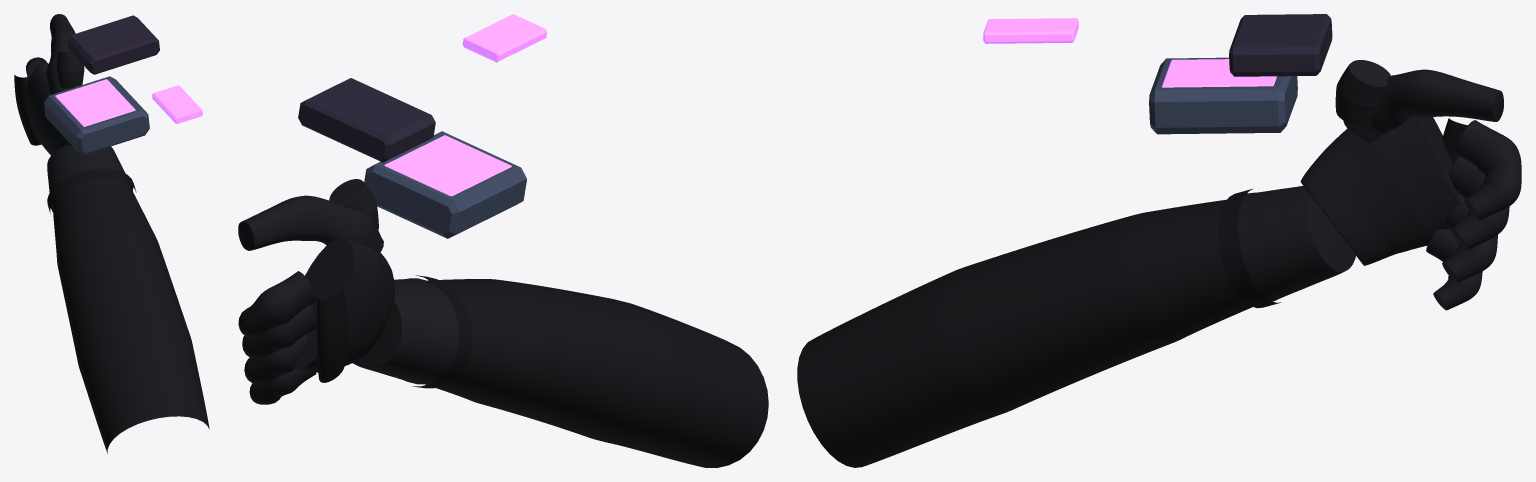
File: hands_specter_magin.glb
3 views of the same model, side by side, from view 1: azimuth 30°, elevation 25°; view 2: azimuth 150°, elevation 25°; view 3: azimuth 270°, elevation 25° (orthographic). The views are drawn at different scales.
Parts seen in each view (by area): view 1: hand_l_forearm, hand_l_cuff_plate, hand_l_scanner, hand_l_screen, hand_l_palm, hand_l_cuff, hand_l_thumb, hand_l_lamp, hand_l_cuff_strap, hand_l_web, hand_l_knuckle_panel, hand_l_index; view 2: hand_l_forearm, hand_l_cuff, hand_l_scanner, hand_l_palm, hand_l_cuff_plate, hand_l_thumb, hand_l_screen, hand_l_index, hand_l_knuckle_panel, hand_l_lamp, hand_l_middle, hand_l_cuff_strap (+3 smaller); view 3: hand_l_forearm, hand_l_palm, hand_l_cuff, hand_l_scanner, hand_l_cuff_plate, hand_l_thumb, hand_l_index, hand_l_web, hand_l_cuff_strap, hand_l_middle, hand_l_lamp, hand_l_screen (+2 smaller).
Part boxes in pixels (x1,y1,x2,y2): hand_l_forearm: (52, 179, 209, 453); hand_l_cuff_plate: (67, 15, 159, 74); hand_l_scanner: (44, 76, 149, 154); hand_l_screen: (55, 79, 135, 126); hand_l_palm: (24, 63, 72, 155); hand_l_cuff: (47, 145, 132, 211); hand_l_thumb: (46, 14, 75, 94); hand_l_lamp: (152, 85, 202, 123); hand_l_cuff_strap: (47, 168, 136, 214); hand_l_web: (56, 52, 84, 88); hand_l_knuckle_panel: (14, 75, 41, 145); hand_l_index: (26, 57, 47, 78); hand_l_forearm: (425, 279, 768, 467); hand_l_cuff: (352, 278, 458, 384); hand_l_scanner: (364, 131, 526, 238); hand_l_palm: (292, 238, 394, 372); hand_l_cuff_plate: (298, 78, 435, 162); hand_l_thumb: (238, 195, 383, 254); hand_l_screen: (384, 135, 511, 196); hand_l_index: (238, 271, 316, 337); hand_l_knuckle_panel: (316, 285, 347, 382); hand_l_lamp: (462, 14, 547, 62); hand_l_middle: (242, 305, 316, 359); hand_l_cuff_strap: (412, 275, 472, 388); hand_l_forearm: (797, 199, 1252, 467); hand_l_palm: (1300, 117, 1461, 265); hand_l_cuff: (1238, 186, 1355, 301); hand_l_scanner: (1149, 57, 1297, 134); hand_l_cuff_plate: (1229, 14, 1332, 76); hand_l_thumb: (1343, 69, 1503, 143); hand_l_index: (1453, 120, 1521, 220); hand_l_web: (1335, 60, 1390, 125); hand_l_cuff_strap: (1218, 188, 1281, 308); hand_l_middle: (1448, 156, 1509, 250); hand_l_lamp: (983, 18, 1078, 43); hand_l_screen: (1161, 59, 1276, 87).
Bounding box in the file's own units: 0.1398 × 0.2456 × 0.318.
